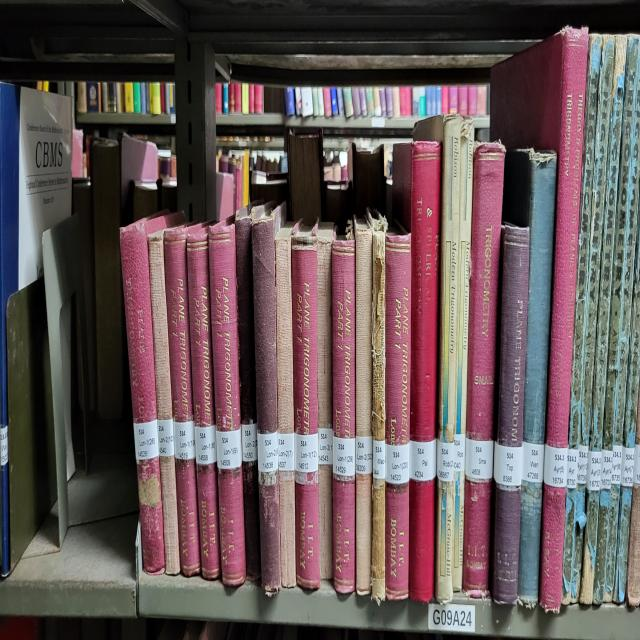Book: (491, 27, 589, 611), (580, 35, 626, 603), (502, 149, 558, 606), (571, 35, 615, 603), (562, 35, 602, 603), (420, 114, 462, 601), (462, 143, 505, 598), (604, 60, 640, 601), (120, 214, 170, 574), (594, 106, 630, 603), (409, 141, 441, 601), (492, 225, 530, 603), (251, 206, 286, 595), (209, 219, 246, 584), (164, 225, 200, 576), (186, 225, 220, 579), (452, 119, 475, 593), (614, 189, 640, 603), (149, 230, 180, 574), (291, 227, 320, 590), (235, 203, 261, 582), (385, 225, 411, 601), (366, 208, 388, 603), (331, 238, 355, 593), (275, 222, 298, 587), (316, 222, 336, 579), (354, 216, 372, 595)
Label: (494, 441, 522, 490), (465, 438, 494, 482), (410, 438, 436, 482), (134, 419, 159, 463), (216, 427, 241, 471), (385, 441, 410, 484), (544, 444, 568, 487), (294, 433, 319, 473), (521, 441, 545, 482), (258, 430, 279, 473), (174, 419, 195, 460), (195, 425, 216, 465), (436, 438, 455, 482), (241, 422, 258, 463), (586, 449, 602, 492), (278, 433, 295, 471), (355, 436, 372, 473), (158, 419, 174, 457), (372, 438, 386, 479), (566, 449, 579, 490), (318, 427, 332, 465), (600, 449, 612, 490), (611, 444, 622, 487), (454, 433, 466, 471), (578, 444, 589, 484), (346, 446, 349, 452)
